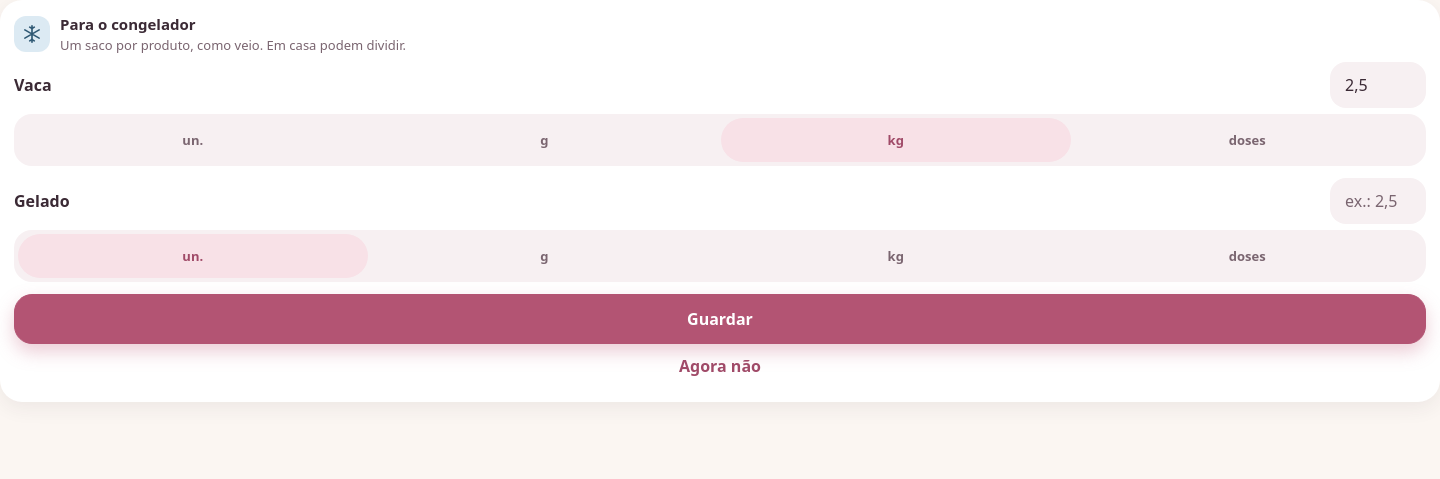
Scenario: with every row invalid nothing is written
The width and height of the screenshot is (1440, 479).
Replace the text in the field named "Quantidade de Vaca" with "0": (1378, 85) top-left (1330, 62), bottom-right (1426, 108)
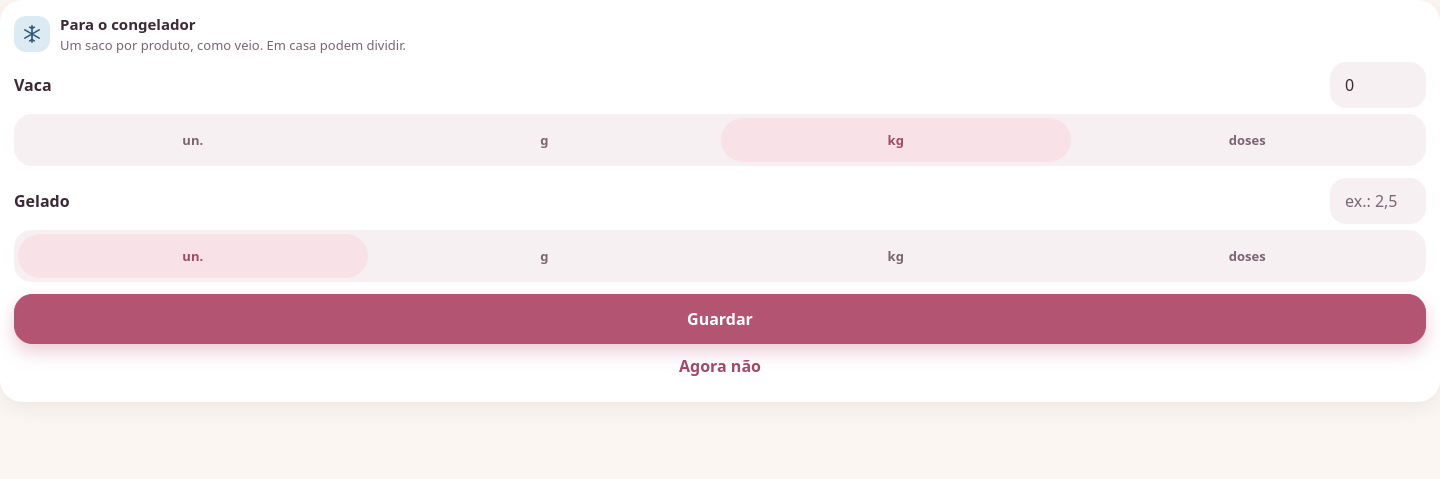
Click the button "Guardar": click(720, 319) top-left (14, 294), bottom-right (1426, 344)
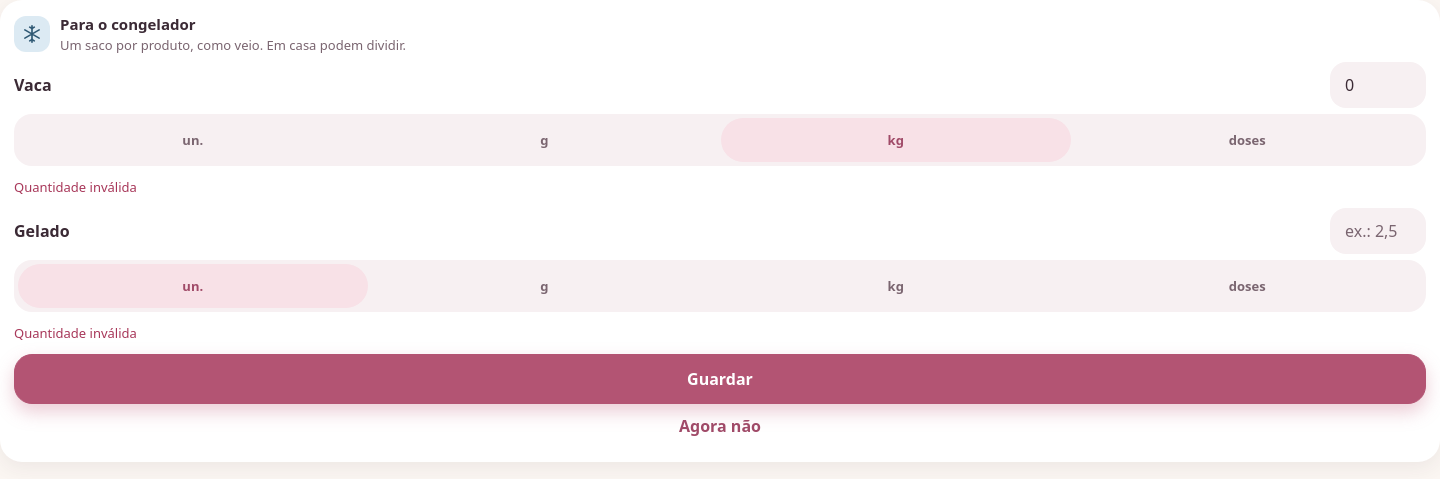
expect the text "Quantidade inválida" is shown 2 times: met, box top-left (14, 178), bottom-right (137, 196); top-left (14, 324), bottom-right (137, 342)
